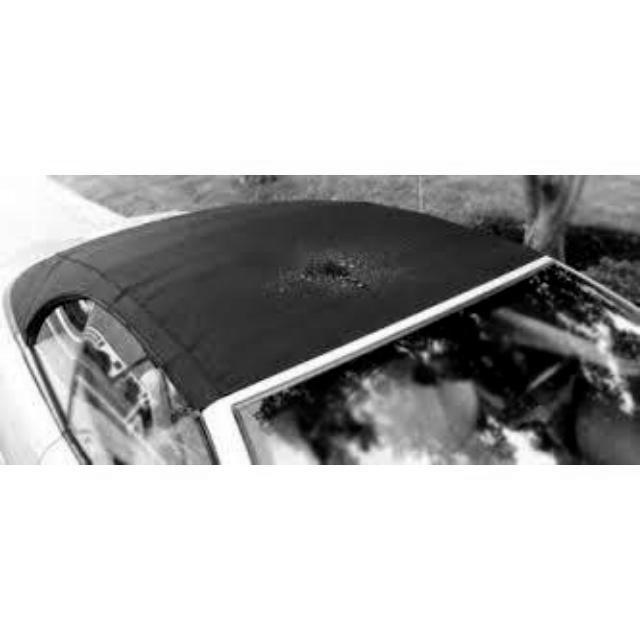roof-dent: (168, 204, 469, 386)
